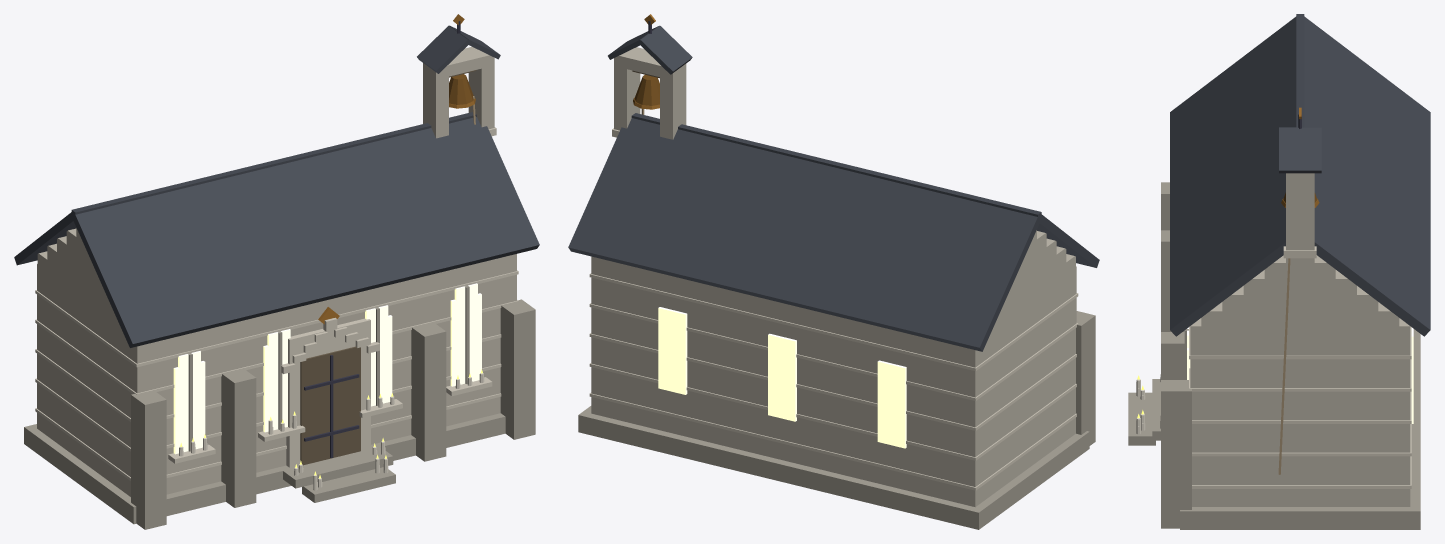
File: chapter_house.glb
3 renders of one model, left to right at view 1: azimuth 30°, elevation 25°; view 2: azimuth 150°, elevation 25°; view 3: azimuth 270°, elevation 25°, orthographic. The views are drawn at different scales.
Parts seen in each view (by area): view 1: slate_d35, bone_d18, bone_d28, bone_d10, kindle_glow, driftwood_d45, bone_l10, ink_l15, ember_d50; view 2: bone_d18, slate_d35, bone_d28, bone_d10, kindle_glow, ember_d50; view 3: slate_d35, bone_d18, bone_d28, bone_d10, driftwood_d10, kindle_glow.
Boxes of the visible parts, bbox=[...] form: slate_d35: bbox=[14, 25, 539, 347]; bone_d18: bbox=[37, 47, 516, 496]; bone_d28: bbox=[24, 285, 535, 529]; bone_d10: bbox=[35, 127, 518, 480]; kindle_glow: bbox=[173, 283, 481, 454]; driftwood_d45: bbox=[300, 70, 476, 465]; bone_l10: bbox=[179, 373, 484, 490]; ink_l15: bbox=[304, 21, 460, 458]; ember_d50: bbox=[449, 74, 473, 104]; bone_d18: bbox=[591, 47, 1076, 507]; slate_d35: bbox=[568, 25, 1099, 351]; bone_d28: bbox=[578, 311, 1095, 529]; bone_d10: bbox=[589, 128, 1078, 490]; kindle_glow: bbox=[658, 307, 906, 448]; ember_d50: bbox=[634, 74, 659, 105]; slate_d35: bbox=[1170, 14, 1430, 336]; bone_d18: bbox=[1190, 173, 1410, 506]; bone_d28: bbox=[1128, 182, 1420, 529]; bone_d10: bbox=[1183, 246, 1411, 488]; driftwood_d10: bbox=[1278, 258, 1290, 474]; kindle_glow: bbox=[1187, 327, 1413, 423].
Size of the model in its own units: 7.7 by 6.64 by 4.39.
